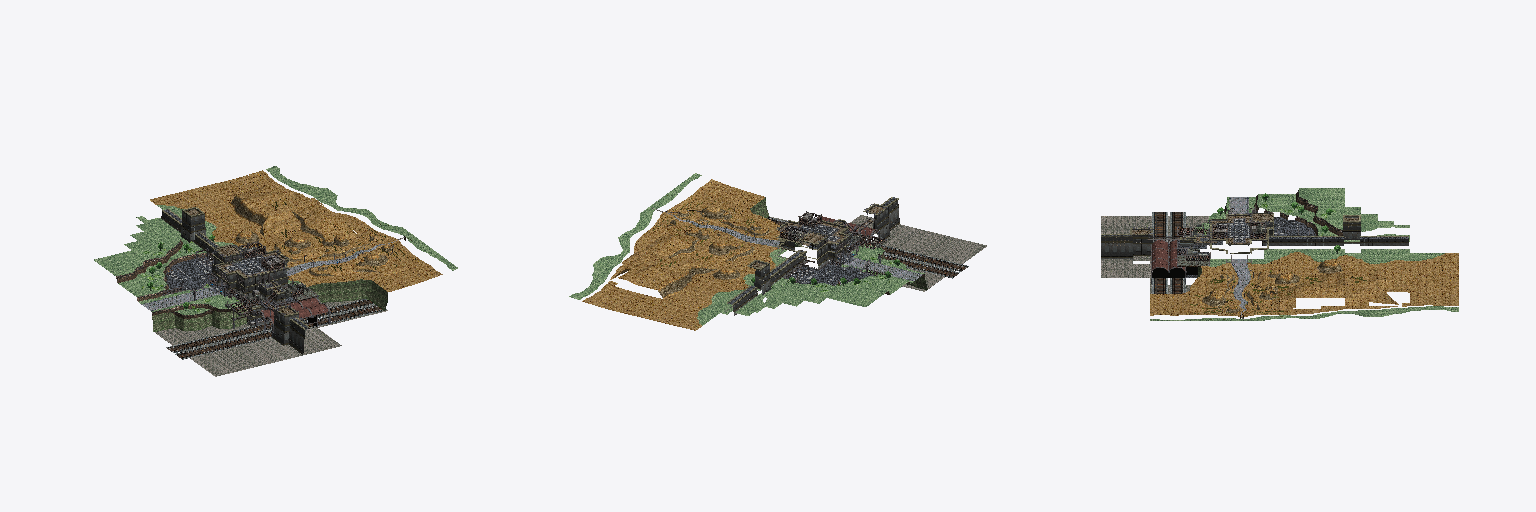
3 renders of one model, left to right at view 1: azimuth 30°, elevation 25°; view 2: azimuth 150°, elevation 25°; view 3: azimuth 270°, elevation 25°, orthographic.
Visible parts, largest first — view 1: Object.194, Object.198, Object.195, Object.175, Object.203, Object.185, Object.41, Object.49, Object.170, Object.64, Object.110, Object.162 (+6 smaller); view 2: Object.190, Object.198, Object.203, Object.49, Object.195, Object.185, Object.162, Object.194, Object.110, Object.107, Object.166, Object.206; view 3: Object.41, Object.183, Object.195, Object.175, Object.198, Object.200, Object.190, Object.49, Object.177, Object.110.
Boxes of the visible parts, x1=… form: Object.194: x1=263, y1=206, x2=320, y2=236; Object.198: x1=191, y1=349, x2=248, y2=376; Object.195: x1=242, y1=191, x2=298, y2=217; Object.175: x1=322, y1=216, x2=374, y2=242; Object.203: x1=224, y1=344, x2=278, y2=370; Object.185: x1=379, y1=264, x2=434, y2=287; Object.41: x1=278, y1=314, x2=304, y2=354; Object.49: x1=166, y1=337, x2=224, y2=359; Object.170: x1=326, y1=259, x2=379, y2=281; Object.64: x1=152, y1=312, x2=194, y2=331; Object.110: x1=94, y1=250, x2=143, y2=273; Object.162: x1=187, y1=195, x2=235, y2=218; Object.190: x1=613, y1=270, x2=673, y2=305; Object.198: x1=922, y1=240, x2=986, y2=263; Object.203: x1=901, y1=230, x2=961, y2=252; Object.49: x1=911, y1=256, x2=968, y2=278; Object.195: x1=635, y1=258, x2=691, y2=279; Object.185: x1=701, y1=181, x2=754, y2=206; Object.162: x1=649, y1=292, x2=704, y2=314; Object.194: x1=655, y1=239, x2=711, y2=266; Object.110: x1=829, y1=287, x2=881, y2=306; Object.107: x1=747, y1=286, x2=797, y2=309; Object.166: x1=679, y1=277, x2=726, y2=299; Object.206: x1=873, y1=224, x2=923, y2=247; Object.41: x1=1101, y1=236, x2=1140, y2=258; Object.183: x1=1346, y1=287, x2=1398, y2=308; Object.195: x1=1345, y1=268, x2=1393, y2=289; Object.175: x1=1264, y1=287, x2=1312, y2=314; Object.198: x1=1101, y1=216, x2=1149, y2=233; Object.200: x1=1101, y1=264, x2=1149, y2=277; Object.190: x1=1386, y1=269, x2=1434, y2=299; Object.49: x1=1152, y1=212, x2=1185, y2=232; Object.177: x1=1305, y1=285, x2=1352, y2=312; Object.110: x1=1300, y1=188, x2=1344, y2=206.
Bounding box in the file's own units: 156 × 26.38 × 176.
25 materials, 25 textured.